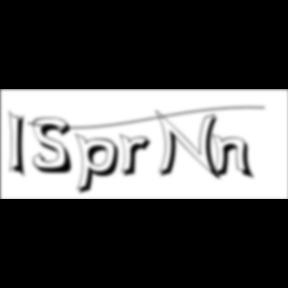N: (155, 109, 225, 183)
S: (33, 117, 79, 176)
l: (9, 108, 32, 182)
n: (212, 132, 258, 181)
p: (75, 132, 125, 198)
r: (120, 134, 158, 180)
